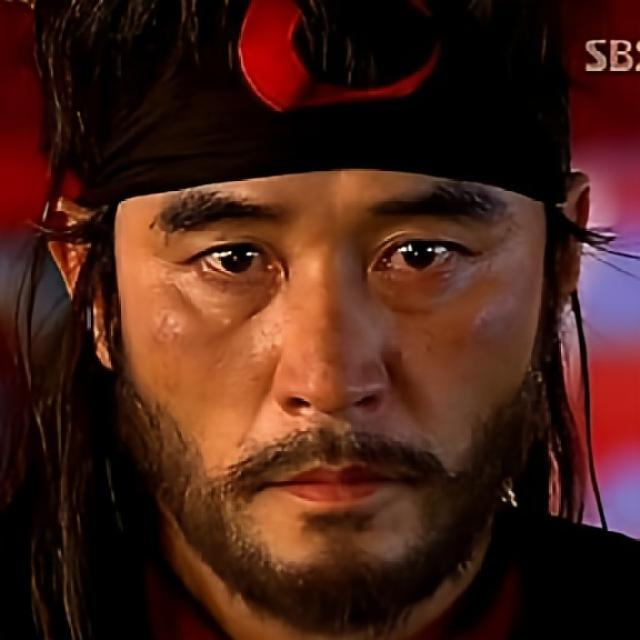sad: (114, 159, 548, 611)
